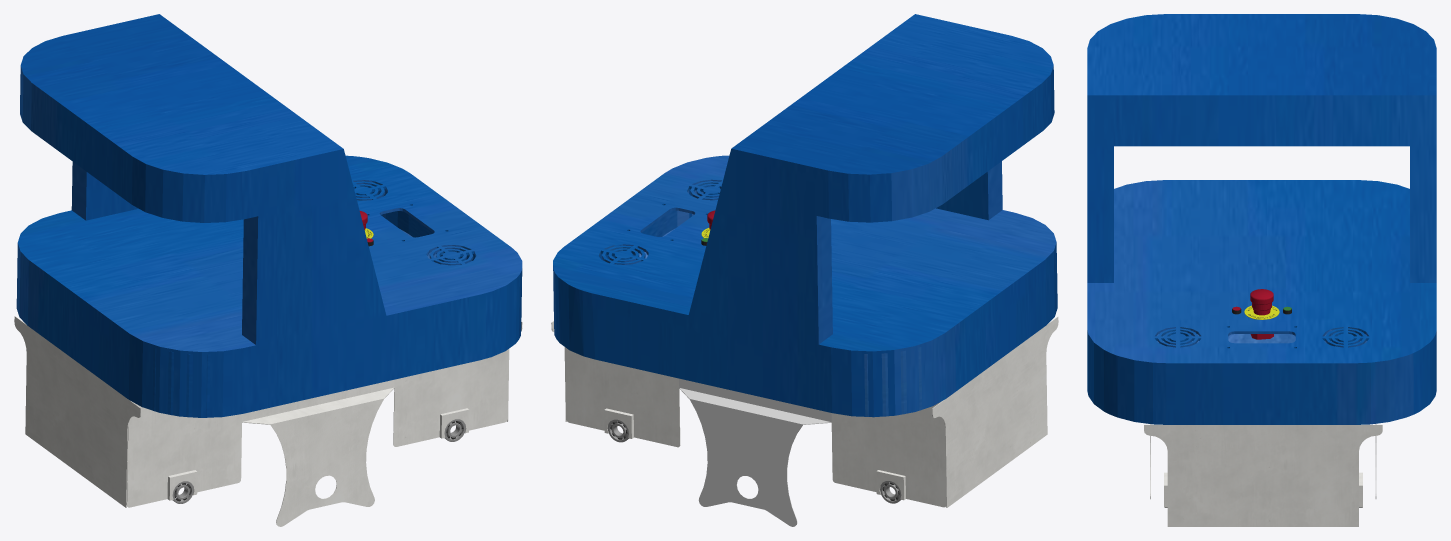
The model's file is Chasis_Link.fbx.
3 renders of one model, left to right at view 1: azimuth 30°, elevation 25°; view 2: azimuth 150°, elevation 25°; view 3: azimuth 270°, elevation 25°, orthographic. The views are drawn at different scales.
Parts seen in each view (by area): view 1: Chasis, Tapa_Trasera, Tapa_Central_2, Tapa_Lateral_3, Tapa_Lateral_2, Base_Cubierta, Cilindros_Rodamientos; view 2: Chasis, Tapa_Trasera, Tapa_Central_1, Tapa_Lateral_4, Tapa_Lateral_1, Base_Cubierta, Cilindros_Rodamientos; view 3: Chasis, Tapa_Delantera, Boton_Emergencias, Base_Cubierta.
Part boxes in pixels (box(x1,y1,x2,y2)): Chasis: box(16, 14, 522, 417); Tapa_Trasera: box(14, 316, 140, 507); Tapa_Central_2: box(242, 379, 394, 526); Tapa_Lateral_3: box(126, 402, 242, 507); Tapa_Lateral_2: box(393, 349, 508, 446); Base_Cubierta: box(17, 190, 475, 417); Cilindros_Rodamientos: box(172, 419, 465, 503); Chasis: box(553, 14, 1057, 417); Tapa_Trasera: box(932, 316, 1058, 507); Tapa_Central_1: box(679, 378, 831, 526); Tapa_Lateral_4: box(831, 401, 946, 507); Tapa_Lateral_1: box(565, 347, 680, 447); Base_Cubierta: box(599, 190, 1056, 416); Cilindros_Rodamientos: box(607, 419, 901, 503); Chasis: box(1087, 14, 1436, 424); Tapa_Delantera: box(1144, 424, 1382, 526); Boton_Emergencias: box(1250, 289, 1273, 339); Base_Cubierta: box(1157, 334, 1366, 343).
Size of the model in its own units: 70.51 by 70.03 by 58.5.
9 materials, 2 textured.
